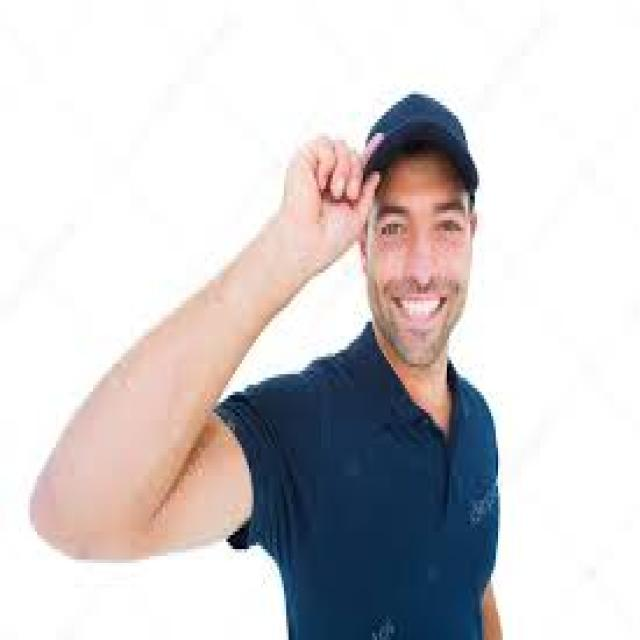cap: (354, 87, 479, 371)
